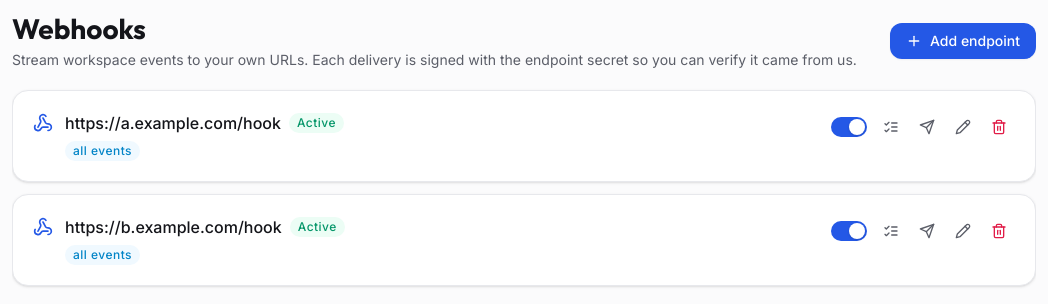
Test: WebhooksPage — per-row mutation loading (no cross-row bleed) › sending a test only disables that endpoint's Send-test button
Click the button named "send test" in the row of "https://a.example.com/hook".
click(927, 127)  # box [911,111,943,143]
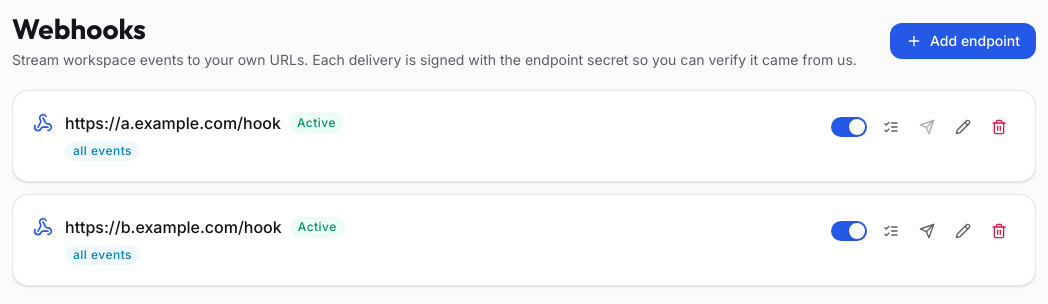
Check: the button named "send test" in the row of "https://b.example.com/hook" is enabled, box [911,215,943,247]
Check: the button named "send test" in the row of "https://a.example.com/hook" is disabled, box [911,111,943,143]
